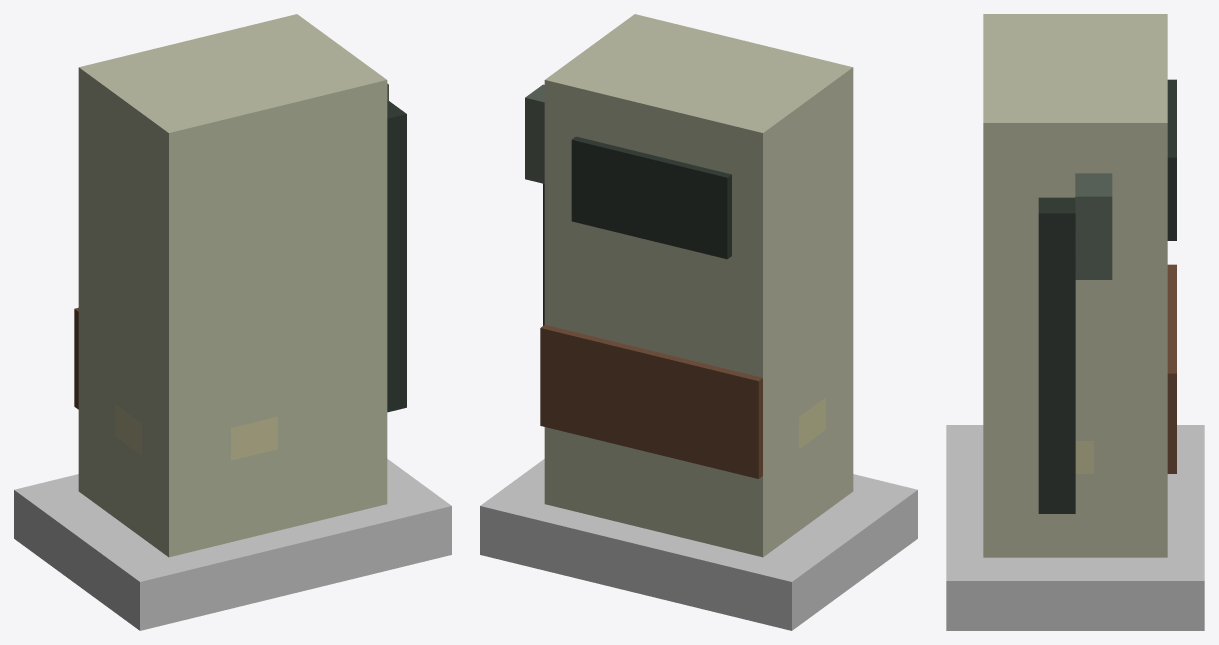
Rendered from gas_pump.gltf.
3 renders of one model, left to right at view 1: azimuth 30°, elevation 25°; view 2: azimuth 150°, elevation 25°; view 3: azimuth 270°, elevation 25°, orthographic. The views are drawn at different scales.
Parts seen in each view (by area): view 1: body, base, hose; view 2: body, base, stripe, display, nozzle; view 3: body, base, hose, nozzle, stripe, display.
Boxes of the visible parts, x1,y1,x2,y2 form: body: [78, 14, 387, 557]; base: [14, 459, 451, 630]; hose: [387, 101, 406, 412]; body: [544, 14, 853, 557]; base: [480, 459, 917, 630]; stripe: [540, 325, 762, 478]; display: [571, 136, 731, 259]; nozzle: [525, 84, 544, 183]; body: [983, 14, 1167, 557]; base: [946, 425, 1204, 630]; hose: [1038, 197, 1075, 513]; nozzle: [1075, 173, 1112, 279]; stripe: [1167, 264, 1176, 473]; display: [1167, 79, 1176, 240].
Size of the model in its own units: 1.25 by 1.81 by 0.875.
